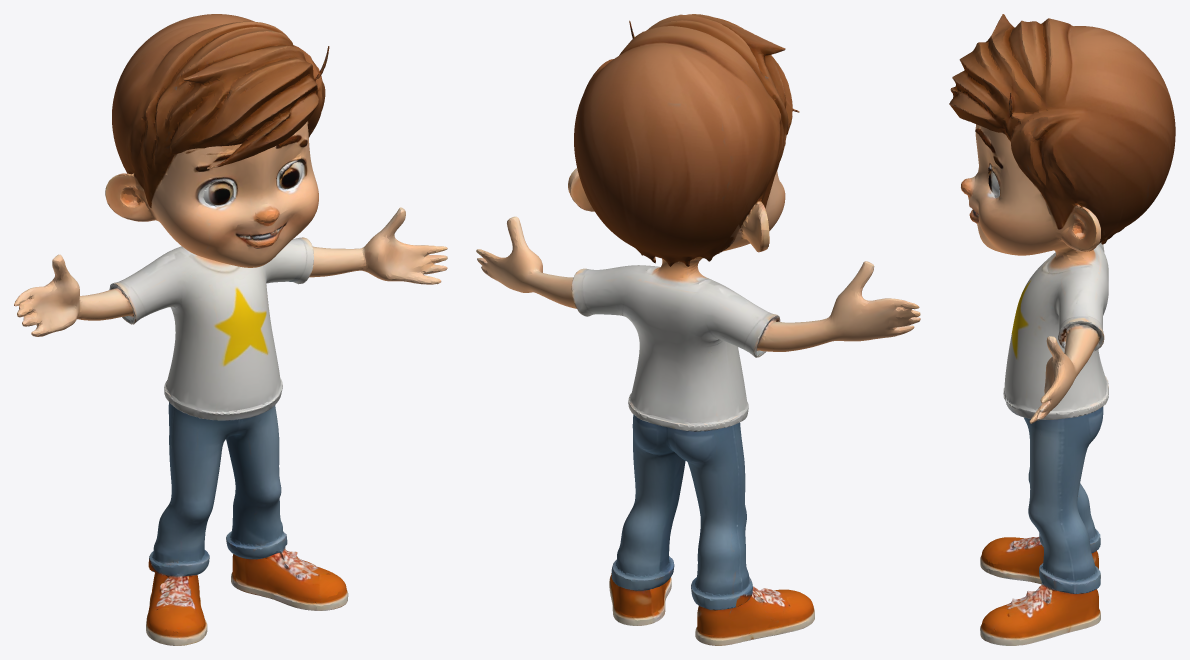
The model's file is virtual_coach.glb.
The picture shows the model from 3 angles, left to right: view 1: azimuth 30°, elevation 25°; view 2: azimuth 150°, elevation 25°; view 3: azimuth 270°, elevation 25°; orthographic projection. The views are drawn at different scales.
Parts seen in each view (by area): view 1: Object_2; view 2: Object_2; view 3: Object_2.
Boxes of the visible parts, x1,y1,x2,y2 form: Object_2: [14, 14, 447, 645]; Object_2: [476, 14, 920, 645]; Object_2: [949, 14, 1175, 645].
Size of the model in its own units: 1.5 by 1.9 by 0.6803.
1 material, 1 textured.
